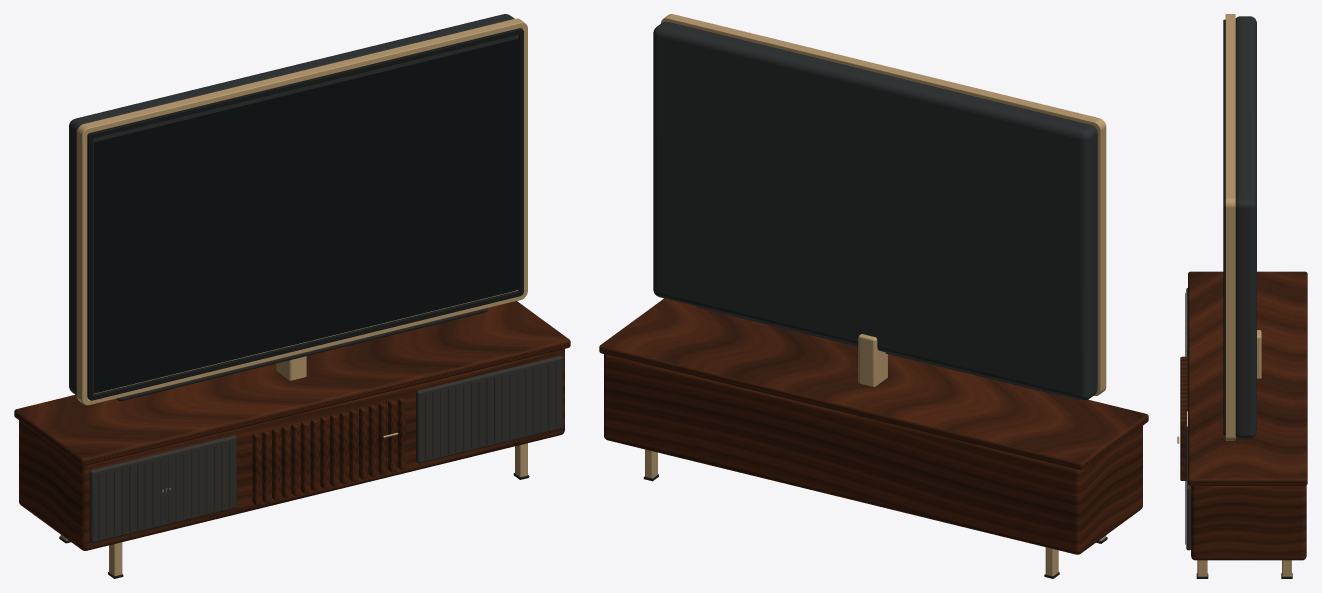
File: universe-console.glb
The picture shows the model from 3 angles, left to right: view 1: azimuth 30°, elevation 25°; view 2: azimuth 150°, elevation 25°; view 3: azimuth 270°, elevation 25°; orthographic projection. The views are drawn at different scales.
Parts seen in each view (by area): view 1: Universe_Screen, Universe_ConsoleTop, Universe_WalnutConsole, Universe_CinemaFrame, Universe_AcousticPanel, Universe_AcousticPanel.001, Universe_CinemaGasket, Universe_DisplayRear, Universe_SpeakerBar; view 2: Universe_DisplayRear, Universe_WalnutConsole, Universe_ConsoleTop, Universe_CinemaFrame, Universe_TVSpine; view 3: Universe_ConsoleTop, Universe_DisplayRear, Universe_WalnutConsole, Universe_CinemaFrame, Universe_CinemaGasket, Universe_FlutedDoor.015, Universe_AcousticPanel.001, Universe_TVSpine, Universe_AcousticPanel.
Boxes of the visible parts, box(x1,y1,x2,y2) form: Universe_Screen: box(94, 38, 520, 392); Universe_ConsoleTop: box(14, 301, 570, 466); Universe_WalnutConsole: box(19, 349, 564, 550); Universe_CinemaFrame: box(76, 18, 527, 405); Universe_AcousticPanel: box(89, 435, 236, 542); Universe_AcousticPanel.001: box(416, 355, 562, 463); Universe_CinemaGasket: box(87, 28, 523, 400); Universe_DisplayRear: box(69, 14, 517, 395); Universe_SpeakerBar: box(116, 308, 488, 401); Universe_DisplayRear: box(653, 21, 1097, 400); Universe_WalnutConsole: box(604, 354, 1142, 554); Universe_ConsoleTop: box(599, 298, 1148, 470); Universe_CinemaFrame: box(661, 14, 1106, 395); Universe_TVSpine: box(858, 334, 887, 386); Universe_ConsoleTop: box(1188, 271, 1307, 485); Universe_DisplayRear: box(1235, 16, 1256, 438); Universe_WalnutConsole: box(1191, 485, 1306, 560); Universe_CinemaFrame: box(1225, 14, 1235, 440); Universe_CinemaGasket: box(1223, 19, 1225, 434); Universe_FlutedDoor.015: box(1180, 418, 1187, 480); Universe_AcousticPanel.001: box(1186, 426, 1190, 550); Universe_TVSpine: box(1257, 330, 1261, 378); Universe_AcousticPanel: box(1186, 288, 1187, 411).
Size of the model in its own units: 2.39 by 2.06 by 0.6315.
6 materials, 1 textured.
